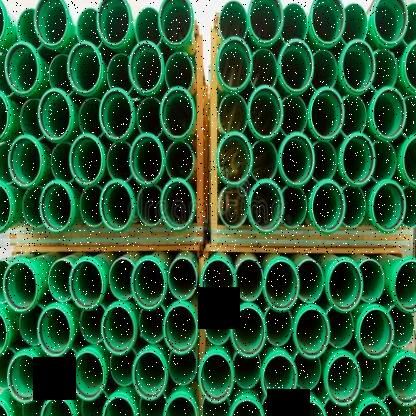pipe: (247, 86, 284, 141), (326, 257, 363, 312), (279, 132, 315, 188), (128, 40, 164, 96), (67, 40, 103, 96), (216, 132, 253, 186), (339, 132, 376, 186), (3, 258, 40, 312), (230, 304, 267, 358), (293, 305, 330, 358), (340, 38, 375, 94), (310, 179, 346, 233), (370, 180, 406, 234), (248, 180, 284, 234), (263, 258, 299, 312), (37, 304, 73, 358), (160, 86, 195, 141), (99, 178, 134, 233), (7, 352, 44, 404), (279, 40, 313, 96), (8, 134, 43, 188), (5, 42, 40, 96), (358, 308, 394, 360), (161, 178, 195, 233), (218, 35, 252, 90), (69, 133, 104, 186), (201, 258, 236, 311), (199, 351, 234, 404), (372, 86, 406, 140), (102, 302, 136, 356), (71, 349, 106, 401), (262, 354, 297, 406), (311, 86, 344, 141), (133, 350, 168, 401), (69, 259, 103, 311), (96, 0, 131, 50), (163, 304, 198, 354), (130, 133, 163, 186), (37, 88, 71, 139), (99, 88, 132, 140), (40, 180, 73, 232), (327, 356, 361, 406), (372, 0, 408, 47), (132, 259, 165, 310), (158, 0, 193, 48), (247, 0, 283, 46), (34, 0, 68, 48), (311, 0, 345, 44), (388, 354, 416, 406), (391, 255, 416, 313), (386, 304, 415, 348), (168, 258, 198, 300), (250, 139, 278, 182), (76, 7, 104, 50), (354, 350, 383, 391), (280, 94, 307, 138), (297, 260, 324, 304), (236, 259, 263, 302), (281, 3, 308, 46), (341, 3, 368, 46), (326, 306, 353, 349), (293, 351, 322, 391), (280, 186, 307, 228), (220, 186, 247, 228), (50, 346, 77, 388), (310, 49, 337, 91), (110, 348, 139, 387), (219, 93, 247, 133), (139, 304, 167, 344), (250, 48, 278, 88), (203, 307, 232, 345), (233, 352, 262, 390), (110, 257, 135, 301), (359, 258, 384, 302), (341, 94, 367, 136), (166, 141, 194, 180), (341, 186, 367, 228), (371, 49, 397, 91), (17, 8, 43, 50), (107, 54, 134, 94), (135, 6, 162, 46), (49, 53, 74, 96), (20, 98, 45, 141), (107, 141, 133, 182), (80, 303, 106, 344), (19, 305, 45, 346), (265, 308, 293, 346), (169, 348, 197, 386), (165, 53, 193, 91), (312, 140, 337, 182), (137, 185, 162, 227), (48, 259, 72, 302), (220, 1, 247, 39), (372, 141, 397, 182), (50, 142, 74, 184), (80, 185, 104, 227), (137, 98, 162, 138), (79, 98, 104, 138), (22, 185, 44, 228), (400, 132, 416, 187), (401, 40, 416, 96), (398, 93, 416, 136), (0, 347, 18, 390), (21, 389, 49, 416), (137, 391, 167, 416), (399, 184, 416, 227), (400, 2, 416, 46), (80, 390, 107, 416), (101, 397, 136, 416), (0, 180, 12, 235), (163, 397, 197, 416), (40, 397, 74, 416), (200, 395, 230, 416), (382, 394, 410, 416), (0, 307, 11, 362), (0, 141, 14, 183), (322, 396, 351, 416), (291, 400, 326, 416), (0, 54, 13, 97), (231, 400, 264, 416), (357, 402, 390, 416), (0, 259, 9, 304), (0, 397, 10, 416), (0, 0, 4, 44)
